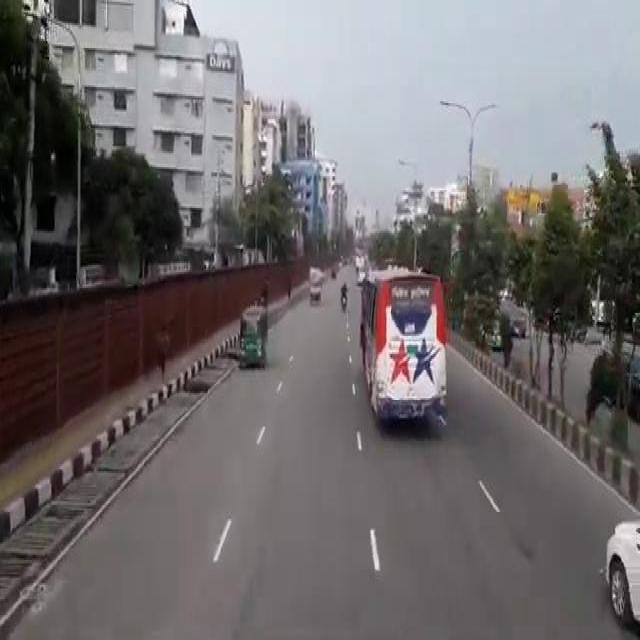bus: (359, 264, 447, 419)
car: (603, 514, 639, 620)
motorbike: (338, 288, 347, 309)
three wheelers -CNG-: (238, 302, 268, 364)
